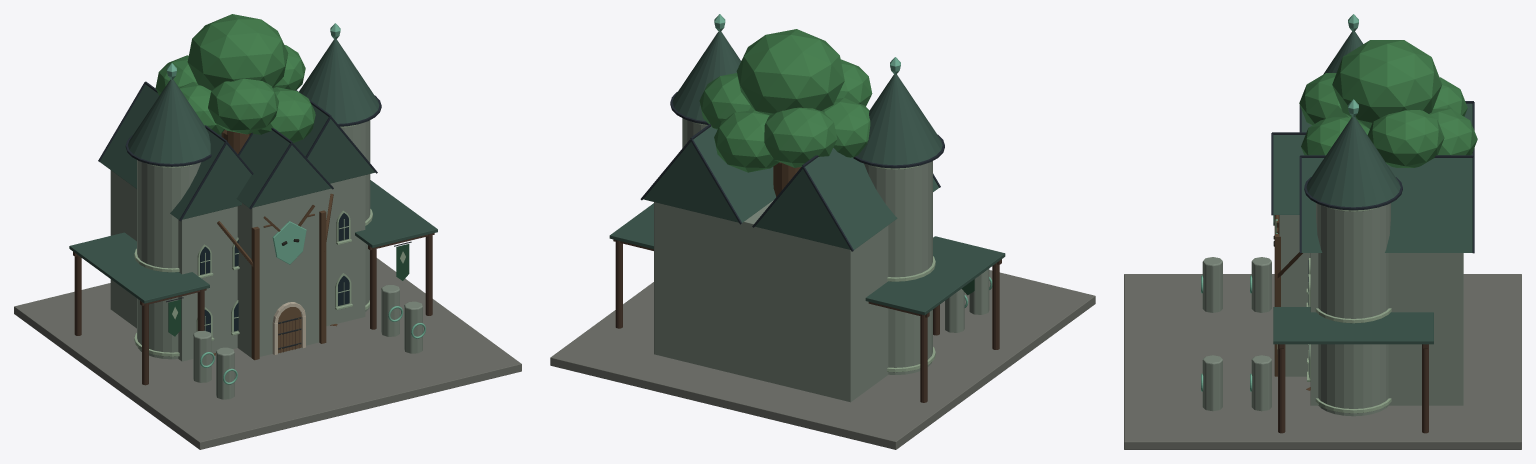
File: SpiritAcademy.fbx
The picture shows the model from 3 angles, left to right: view 1: azimuth 30°, elevation 25°; view 2: azimuth 150°, elevation 25°; view 3: azimuth 270°, elevation 25°; orthographic projection. The views are drawn at different scales.
Parts seen in each view (by area): view 1: Spirit Academy foundation.001, Spirit Academy sanctuary hall.001, Spirit Academy ceremonial gatehouse.001, Spirit Academy west elder tower shaft.001, Spirit Academy central crown.001, Spirit Academy sanctuary wing roof.002, Spirit Academy west elder tower sanctuary spire.001, Spirit Academy ceremonial gatehouse roof.001, Spirit Academy open pavilion roof.002, Spirit Academy east elder tower sanctuary spire.001, Spirit Academy sacred crown.010, Spirit Academy sanctuary wing roof.003 (+18 smaller); view 2: Spirit Academy sanctuary hall.001, Spirit Academy foundation.001, Spirit Academy sanctuary wing roof.002, Spirit Academy west elder tower shaft.001, Spirit Academy central crown.001, Spirit Academy sanctuary wing roof.003, Spirit Academy open pavilion roof.002, Spirit Academy west elder tower sanctuary spire.001, Spirit Academy sacred crown.008, Spirit Academy sacred crown.007, Spirit Academy east elder tower sanctuary spire.001, Spirit Academy sacred crown.009 (+8 smaller); view 3: Spirit Academy foundation.001, Spirit Academy east elder tower shaft.001, Spirit Academy sanctuary hall.001, Spirit Academy sanctuary wing roof.003, Spirit Academy central crown.001, Spirit Academy east elder tower sanctuary spire.001, Spirit Academy open pavilion roof.003, Spirit Academy sacred crown.006, Spirit Academy ceremonial gatehouse.001, Spirit Academy ceremonial gatehouse roof.001, Spirit Academy sacred crown.010, Spirit Academy sacred crown.007 (+13 smaller).
Boxes of the visible parts, x1,y1,x2,y2 form: Spirit Academy foundation.001: [14, 258, 521, 449]; Spirit Academy sanctuary hall.001: [110, 170, 365, 361]; Spirit Academy ceremonial gatehouse.001: [237, 190, 323, 357]; Spirit Academy west elder tower shaft.001: [137, 160, 200, 359]; Spirit Academy central crown.001: [187, 14, 288, 90]; Spirit Academy sanctuary wing roof.002: [100, 84, 251, 219]; Spirit Academy west elder tower sanctuary spire.001: [128, 79, 210, 163]; Spirit Academy ceremonial gatehouse roof.001: [236, 130, 331, 207]; Spirit Academy open pavilion roof.002: [69, 232, 209, 303]; Spirit Academy east elder tower sanctuary spire.001: [299, 39, 379, 123]; Spirit Academy sacred crown.010: [208, 78, 278, 134]; Spirit Academy sanctuary wing roof.003: [219, 105, 374, 183]; Spirit Academy sanctuary hall.001: [654, 200, 888, 402]; Spirit Academy foundation.001: [550, 270, 1095, 449]; Spirit Academy sanctuary wing roof.002: [755, 148, 938, 249]; Spirit Academy west elder tower shaft.001: [864, 161, 932, 374]; Spirit Academy central crown.001: [736, 29, 844, 115]; Spirit Academy sanctuary wing roof.003: [643, 126, 775, 222]; Spirit Academy open pavilion roof.002: [865, 236, 1005, 315]; Spirit Academy west elder tower sanctuary spire.001: [856, 74, 942, 165]; Spirit Academy sacred crown.008: [764, 107, 837, 167]; Spirit Academy sacred crown.007: [714, 109, 779, 172]; Spirit Academy east elder tower sanctuary spire.001: [672, 31, 740, 121]; Spirit Academy sacred crown.009: [822, 98, 870, 157]; Spirit Academy foundation.001: [1124, 274, 1521, 449]; Spirit Academy east elder tower shaft.001: [1316, 203, 1390, 416]; Spirit Academy sanctuary hall.001: [1310, 253, 1463, 405]; Spirit Academy sanctuary wing roof.003: [1301, 158, 1472, 252]; Spirit Academy central crown.001: [1332, 40, 1442, 128]; Spirit Academy east elder tower sanctuary spire.001: [1306, 117, 1400, 207]; Spirit Academy open pavilion roof.003: [1273, 307, 1433, 344]; Spirit Academy sacred crown.006: [1367, 110, 1444, 167]; Spirit Academy ceremonial gatehouse.001: [1279, 215, 1310, 376]; Spirit Academy ceremonial gatehouse roof.001: [1273, 135, 1305, 214]; Spirit Academy sacred crown.010: [1299, 73, 1350, 125]; Spirit Academy sacred crown.007: [1429, 108, 1477, 155].
Bounding box in the file's own units: 26 × 23.25 × 26.
